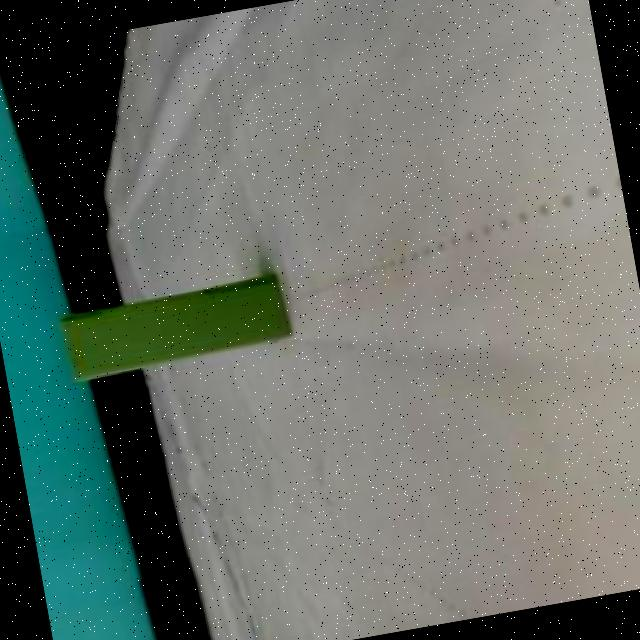greenbox: (53, 272, 300, 390)
